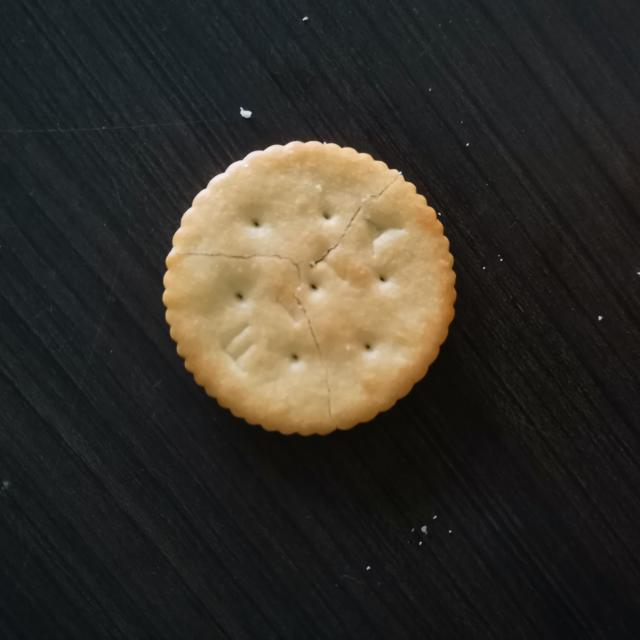Fracture: (165, 171, 412, 430)
